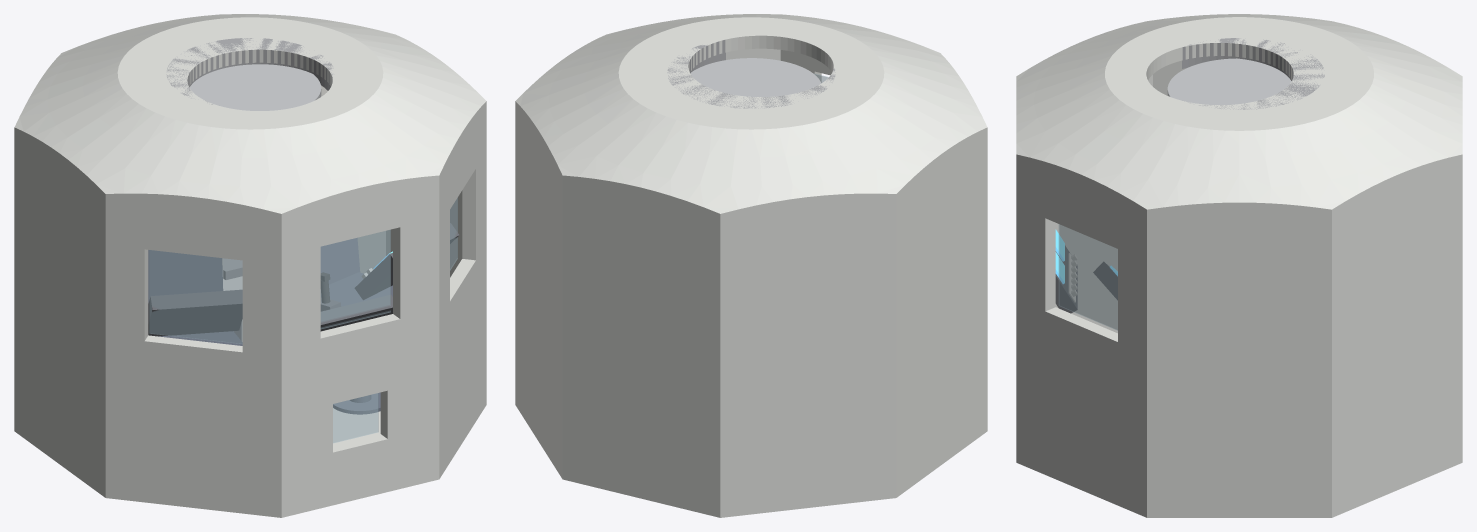
Rendered from cmd09_lander_cabin_interior.glb.
3 views of the same model, side by side, from view 1: azimuth 30°, elevation 25°; view 2: azimuth 150°, elevation 25°; view 3: azimuth 270°, elevation 25° (orthographic).
Visible parts, largest first — view 1: pressure_vessel, window_glass_inner, hatch_door_1, side_panel_l, seat_1, hatch_tunnel_1, seat_2, main_panel, side_panel_r; view 2: pressure_vessel, hatch_door_1, hatch_tunnel_1; view 3: pressure_vessel, window_glass_inner, hatch_door_1, hatch_tunnel_1, main_panel.
Part boxes in pixels (x1=…): pressure_vessel: x1=14, y1=14, x2=486, y2=517; window_glass_inner: x1=149, y1=197, x2=457, y2=443; hatch_door_1: x1=189, y1=64, x2=321, y2=110; side_panel_l: x1=148, y1=289, x2=242, y2=336; seat_1: x1=148, y1=250, x2=242, y2=345; hatch_tunnel_1: x1=166, y1=38, x2=333, y2=104; seat_2: x1=320, y1=238, x2=392, y2=414; main_panel: x1=320, y1=294, x2=392, y2=331; side_panel_r: x1=354, y1=223, x2=459, y2=299; pressure_vessel: x1=515, y1=14, x2=987, y2=517; hatch_door_1: x1=690, y1=58, x2=821, y2=96; hatch_tunnel_1: x1=667, y1=40, x2=835, y2=108; pressure_vessel: x1=1016, y1=14, x2=1462, y2=517; window_glass_inner: x1=1058, y1=224, x2=1117, y2=330; hatch_door_1: x1=1167, y1=58, x2=1291, y2=104; hatch_tunnel_1: x1=1182, y1=38, x2=1324, y2=109; main_panel: x1=1055, y1=245, x2=1077, y2=313.
Bounding box in the file's own units: 2.3 × 1.99 × 2.3.
